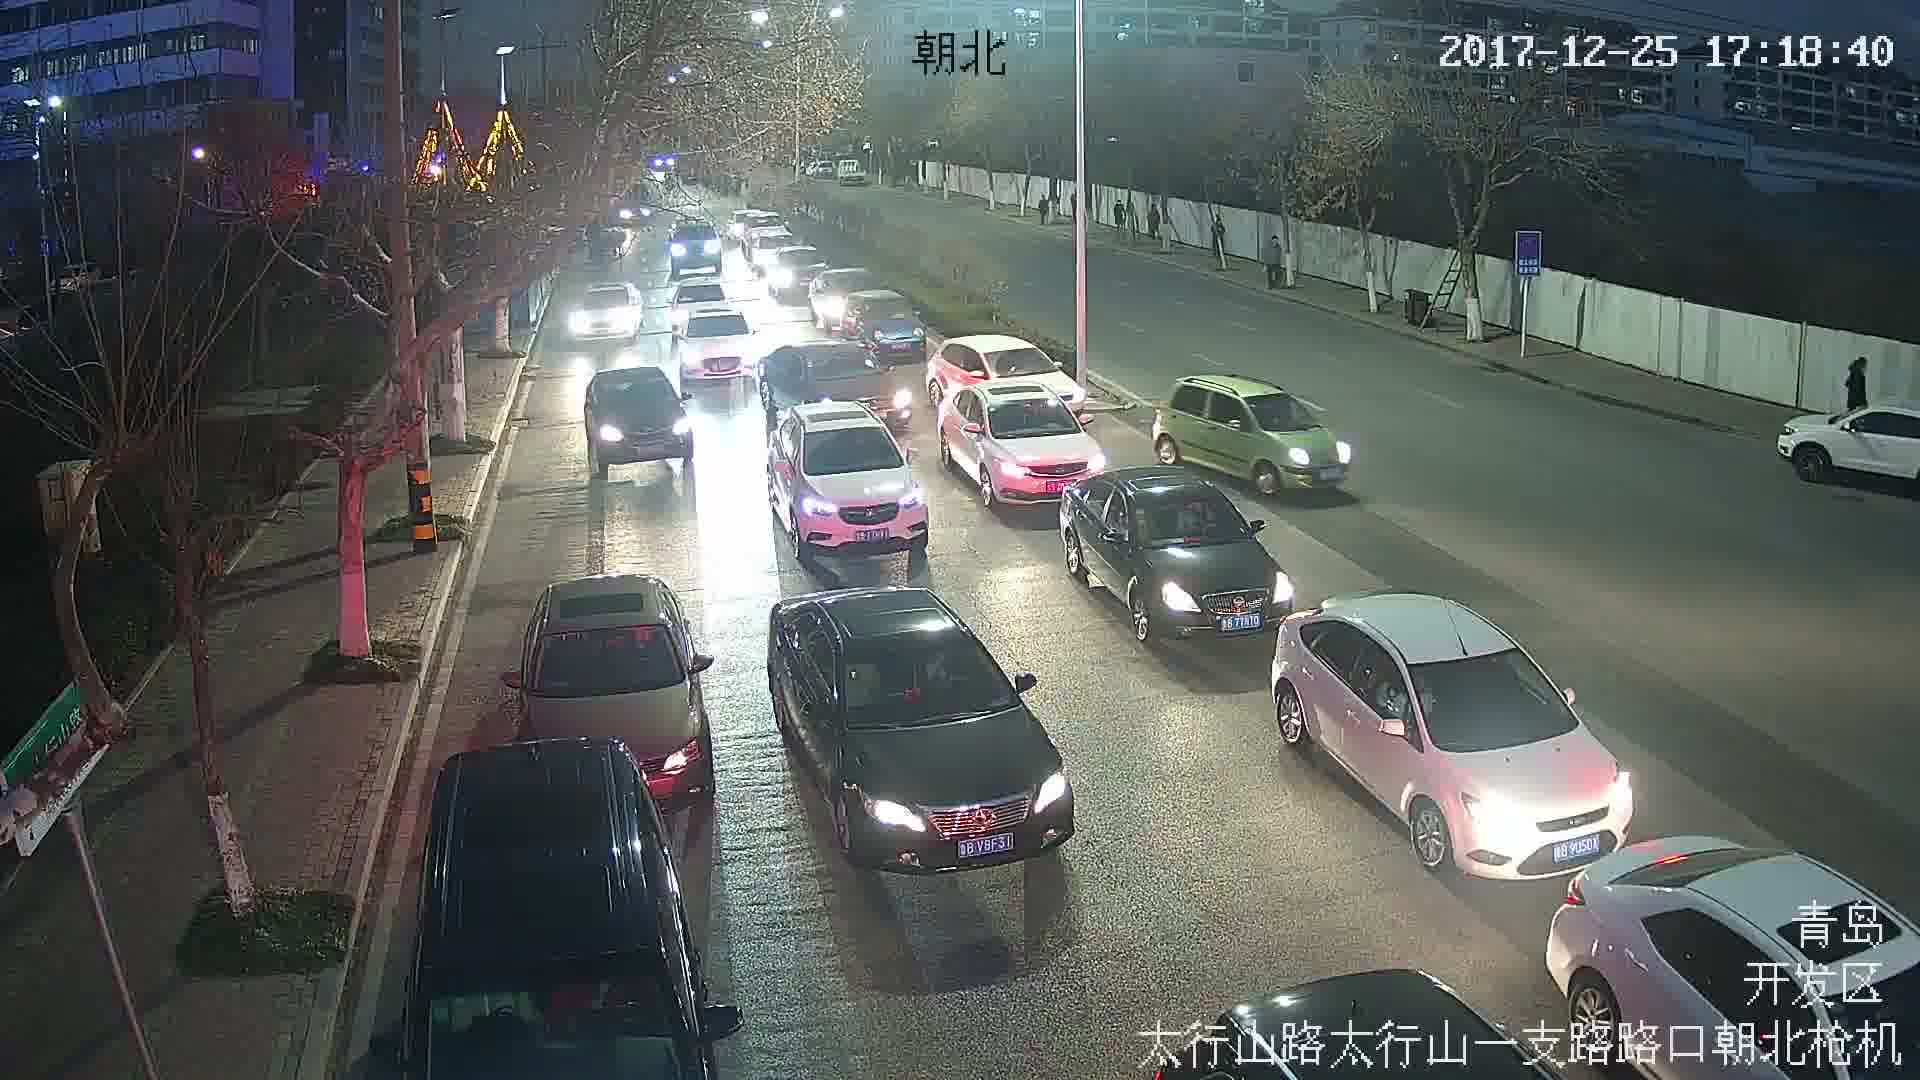car: (1270, 591, 1632, 880), (767, 595, 1074, 881), (502, 566, 714, 806), (1067, 467, 1295, 648), (768, 400, 932, 566), (1155, 371, 1355, 494), (937, 385, 1118, 505), (935, 332, 1093, 419), (584, 367, 693, 475), (845, 291, 934, 362), (678, 307, 757, 382), (570, 282, 643, 344)
person: (1846, 356, 1868, 402)
